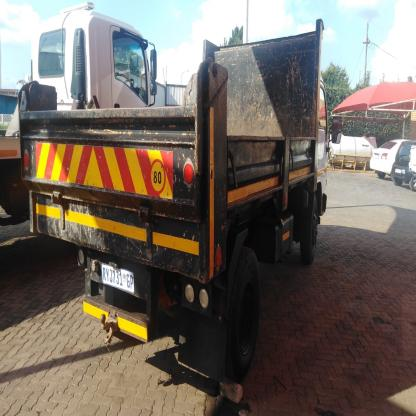dump_truck: (22, 17, 337, 379)
